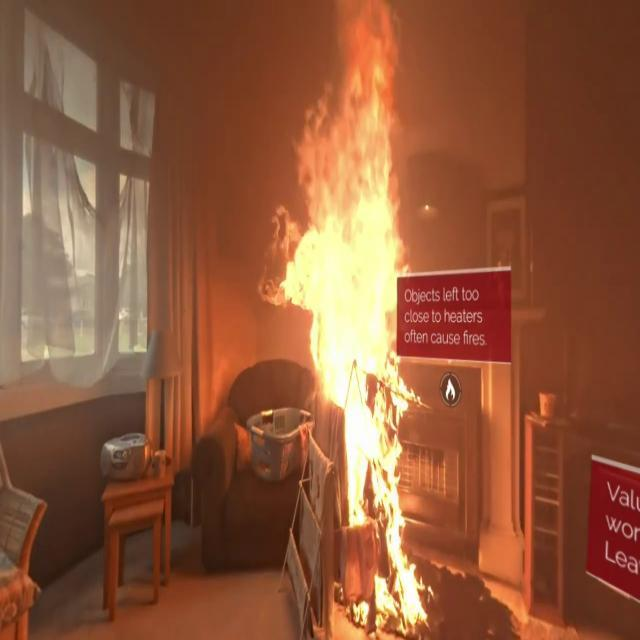Fire: (266, 15, 429, 623)
